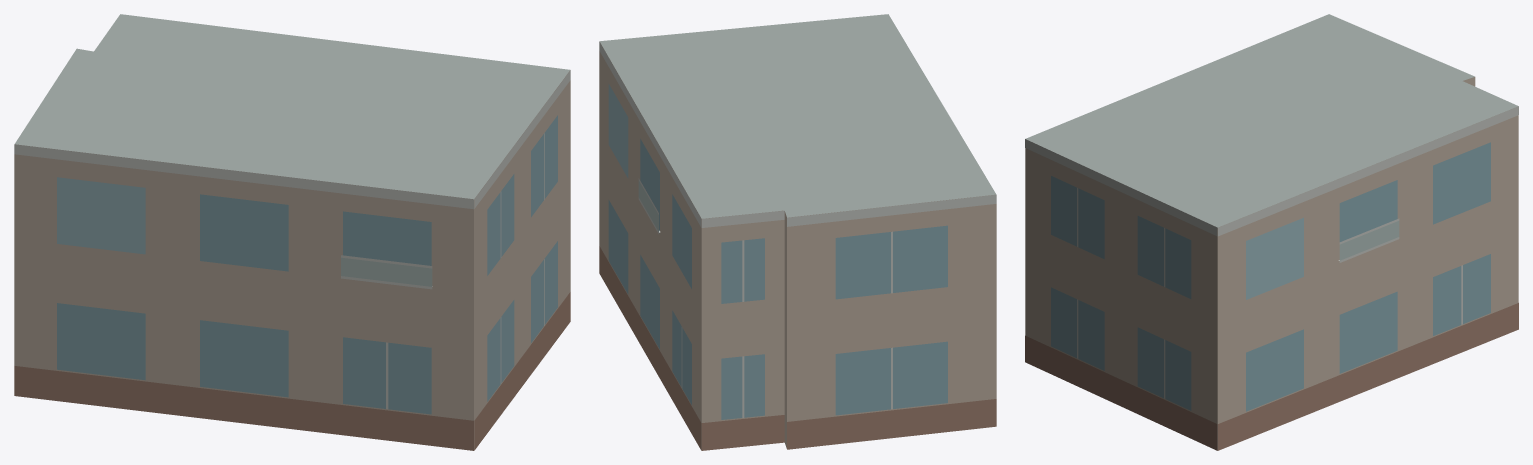
Rendered from survey-upis-32655361.glb.
The picture shows the model from 3 angles, left to right: view 1: azimuth 30°, elevation 25°; view 2: azimuth 150°, elevation 25°; view 3: azimuth 270°, elevation 25°; orthographic projection. The views are drawn at different scales.
Visible parts, largest first — view 1: survey-upis-32655361.tmp; view 2: survey-upis-32655361.tmp; view 3: survey-upis-32655361.tmp.
Part boxes in pixels (x1,y1,x2,y2): survey-upis-32655361.tmp: [14, 14, 570, 450]; survey-upis-32655361.tmp: [599, 14, 996, 450]; survey-upis-32655361.tmp: [1025, 14, 1518, 450].
Size of the model in its own units: 12.53 by 6.1 by 12.23.
